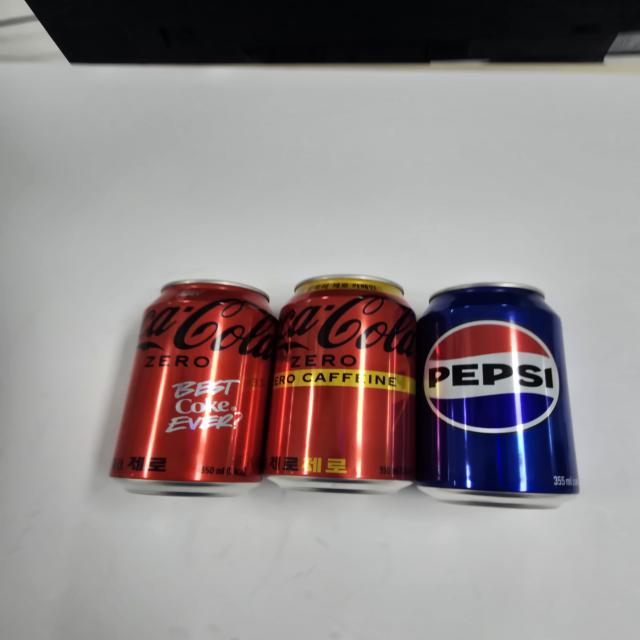can_coke_decaf: (266, 274, 418, 499)
can_coke_zero: (108, 278, 278, 499)
can_pepsi: (417, 283, 581, 514)
